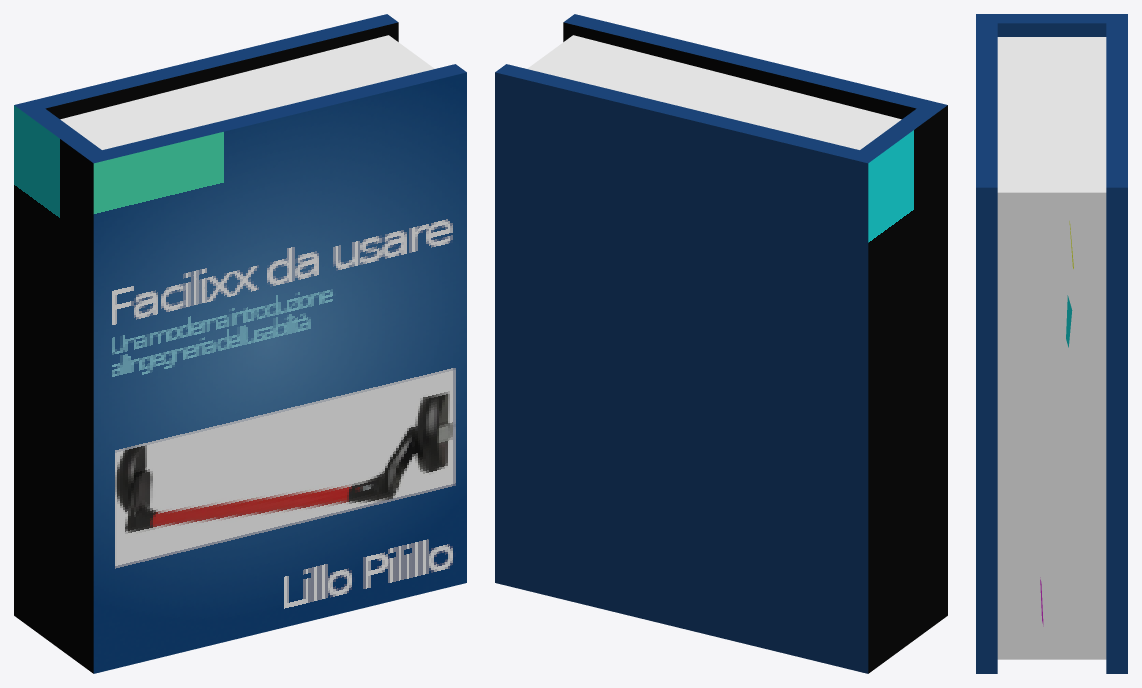
Rendered from Libro.glb.
3 renders of one model, left to right at view 1: azimuth 30°, elevation 25°; view 2: azimuth 150°, elevation 25°; view 3: azimuth 270°, elevation 25°, orthographic. The views are drawn at different scales.
Parts seen in each view (by area): view 1: Cube.001; view 2: Cube.001; view 3: Cube.001.
Part boxes in pixels (left/top/right/bottom): Cube.001: left=14, top=14, right=466, bottom=673; Cube.001: left=495, top=14, right=947, bottom=673; Cube.001: left=976, top=14, right=1127, bottom=673.
Size of the model in its own units: 2.68 by 3.29 by 0.9323.
Materials: 1 (1 with a texture image).
